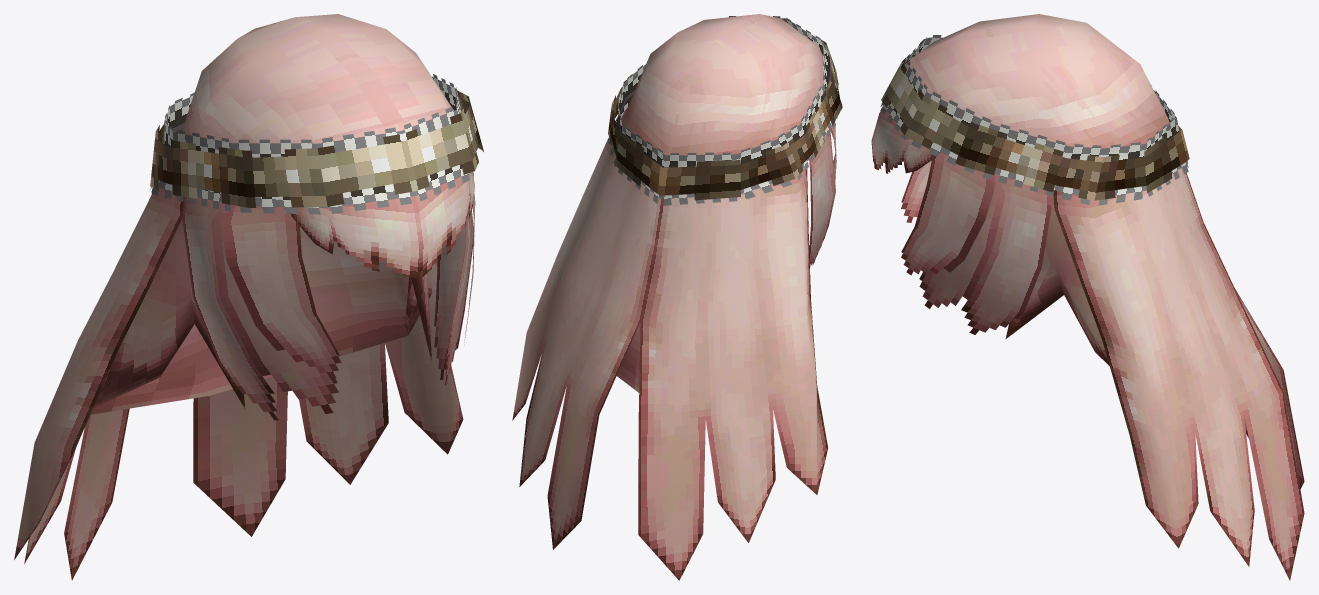
The picture shows the model from 3 angles, left to right: view 1: azimuth 30°, elevation 25°; view 2: azimuth 150°, elevation 25°; view 3: azimuth 270°, elevation 25°; orthographic projection. The views are drawn at different scales.
Visible parts, largest first — view 1: mesh00; view 2: mesh00; view 3: mesh00.
Boxes of the visible parts, x1,y1,x2,y2 form: mesh00: (14,14,483,580); mesh00: (512,14,842,580); mesh00: (871,14,1304,580).
Size of the model in its own units: 35.2 by 50.26 by 37.82.
